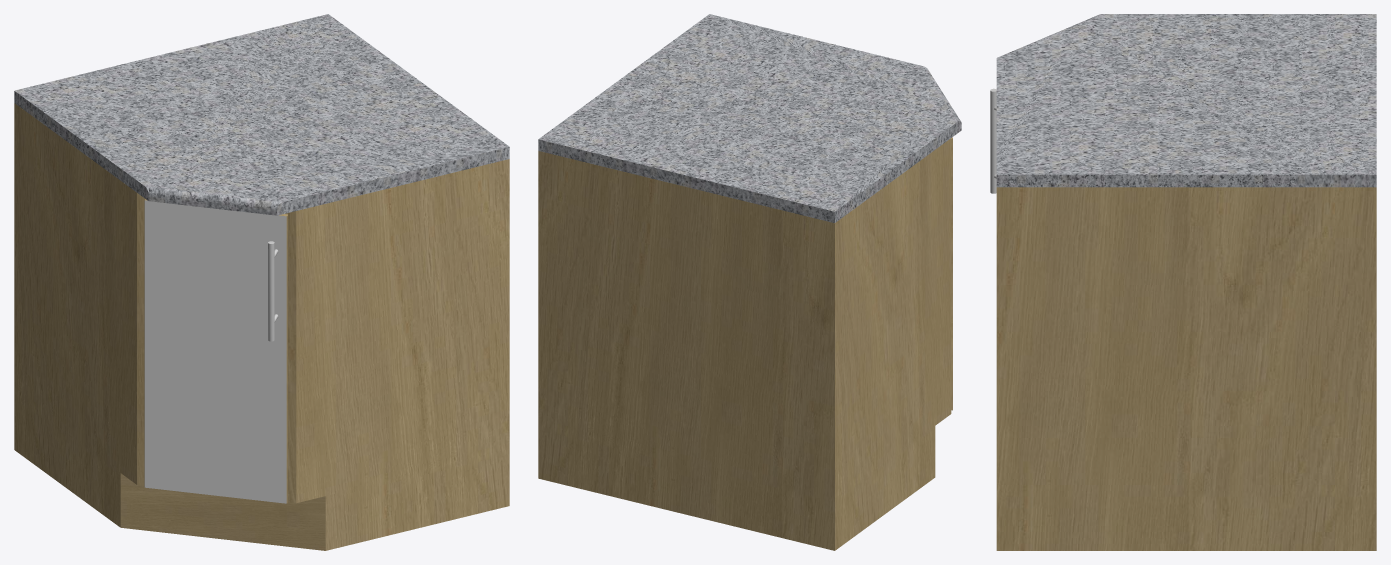
The model's file is sh_blend_swap_cc_0_lowercornercabinet.glb.
The picture shows the model from 3 angles, left to right: view 1: azimuth 30°, elevation 25°; view 2: azimuth 150°, elevation 25°; view 3: azimuth 270°, elevation 25°; orthographic projection. The views are drawn at different scales.
Bounding box in the file's own units: 0.81 × 0.885 × 0.823.
7 materials, 5 textured.
